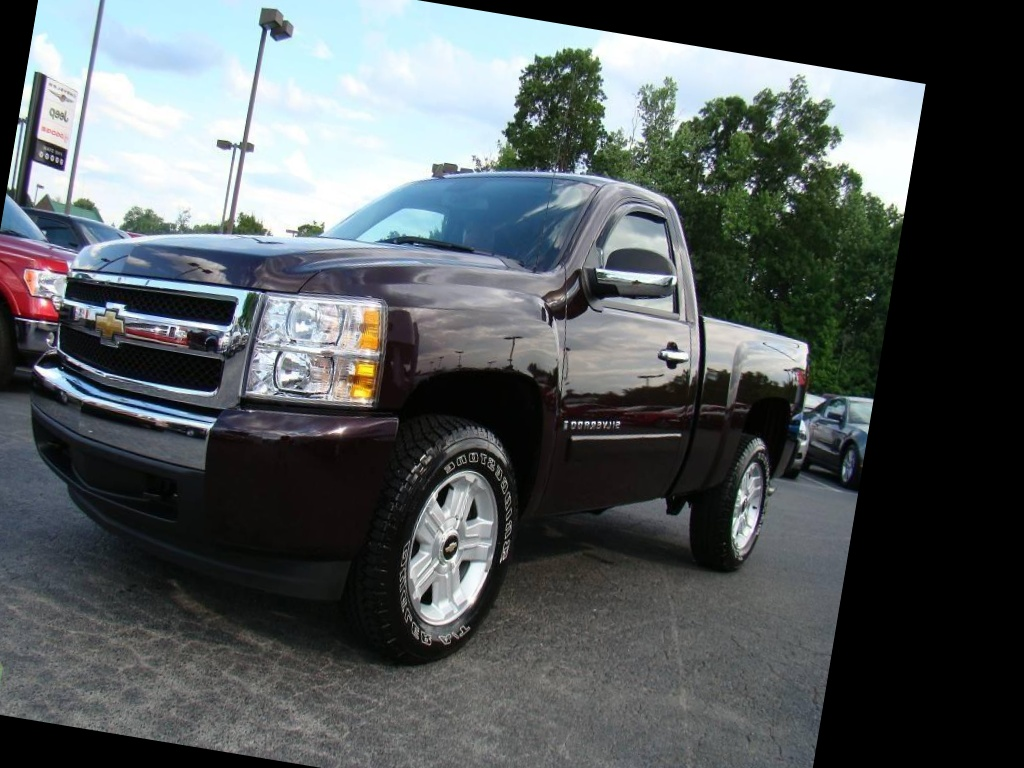car: (0, 63, 859, 740)
